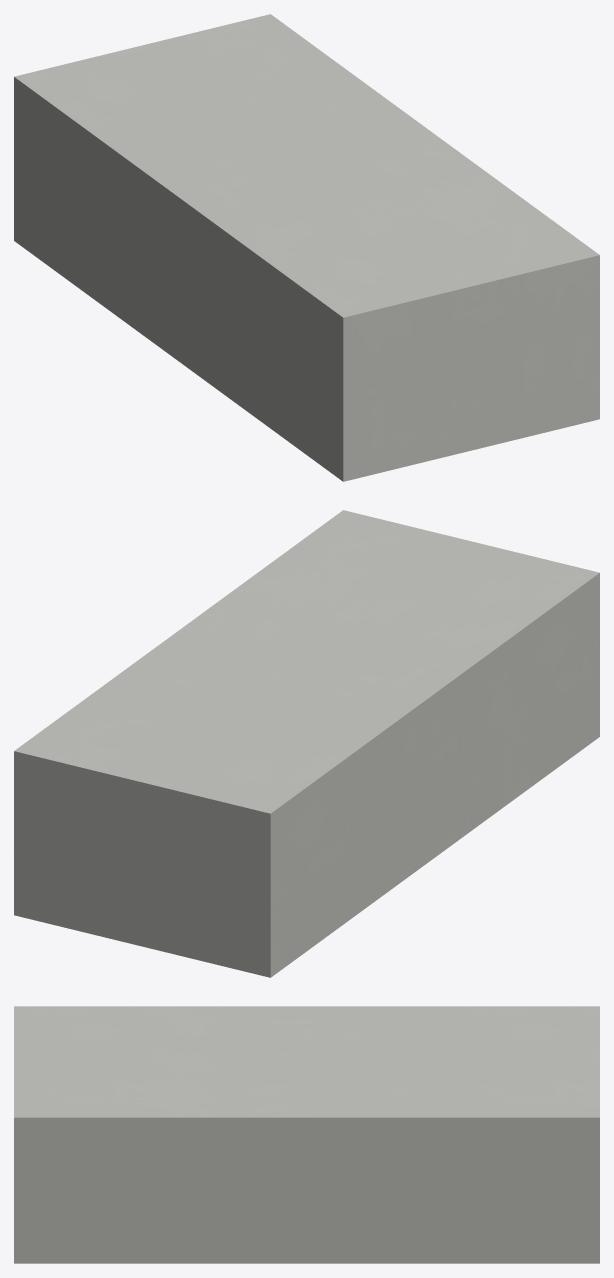
File: ground_controller.glb
3 views of the same model, one above another, from view 1: azimuth 30°, elevation 25°; view 2: azimuth 150°, elevation 25°; view 3: azimuth 270°, elevation 25° (orthographic). The views are drawn at different scales.
Visible parts, largest first — view 1: ground_controller; view 2: ground_controller; view 3: ground_controller.
Part boxes in pixels (bbox=[...]): ground_controller: bbox=[14, 14, 599, 481]; ground_controller: bbox=[14, 510, 599, 977]; ground_controller: bbox=[14, 1006, 599, 1263].
Bounding box in the file's own units: 0.9 × 0.59 × 2.
Materials: 3 (1 with a texture image).
